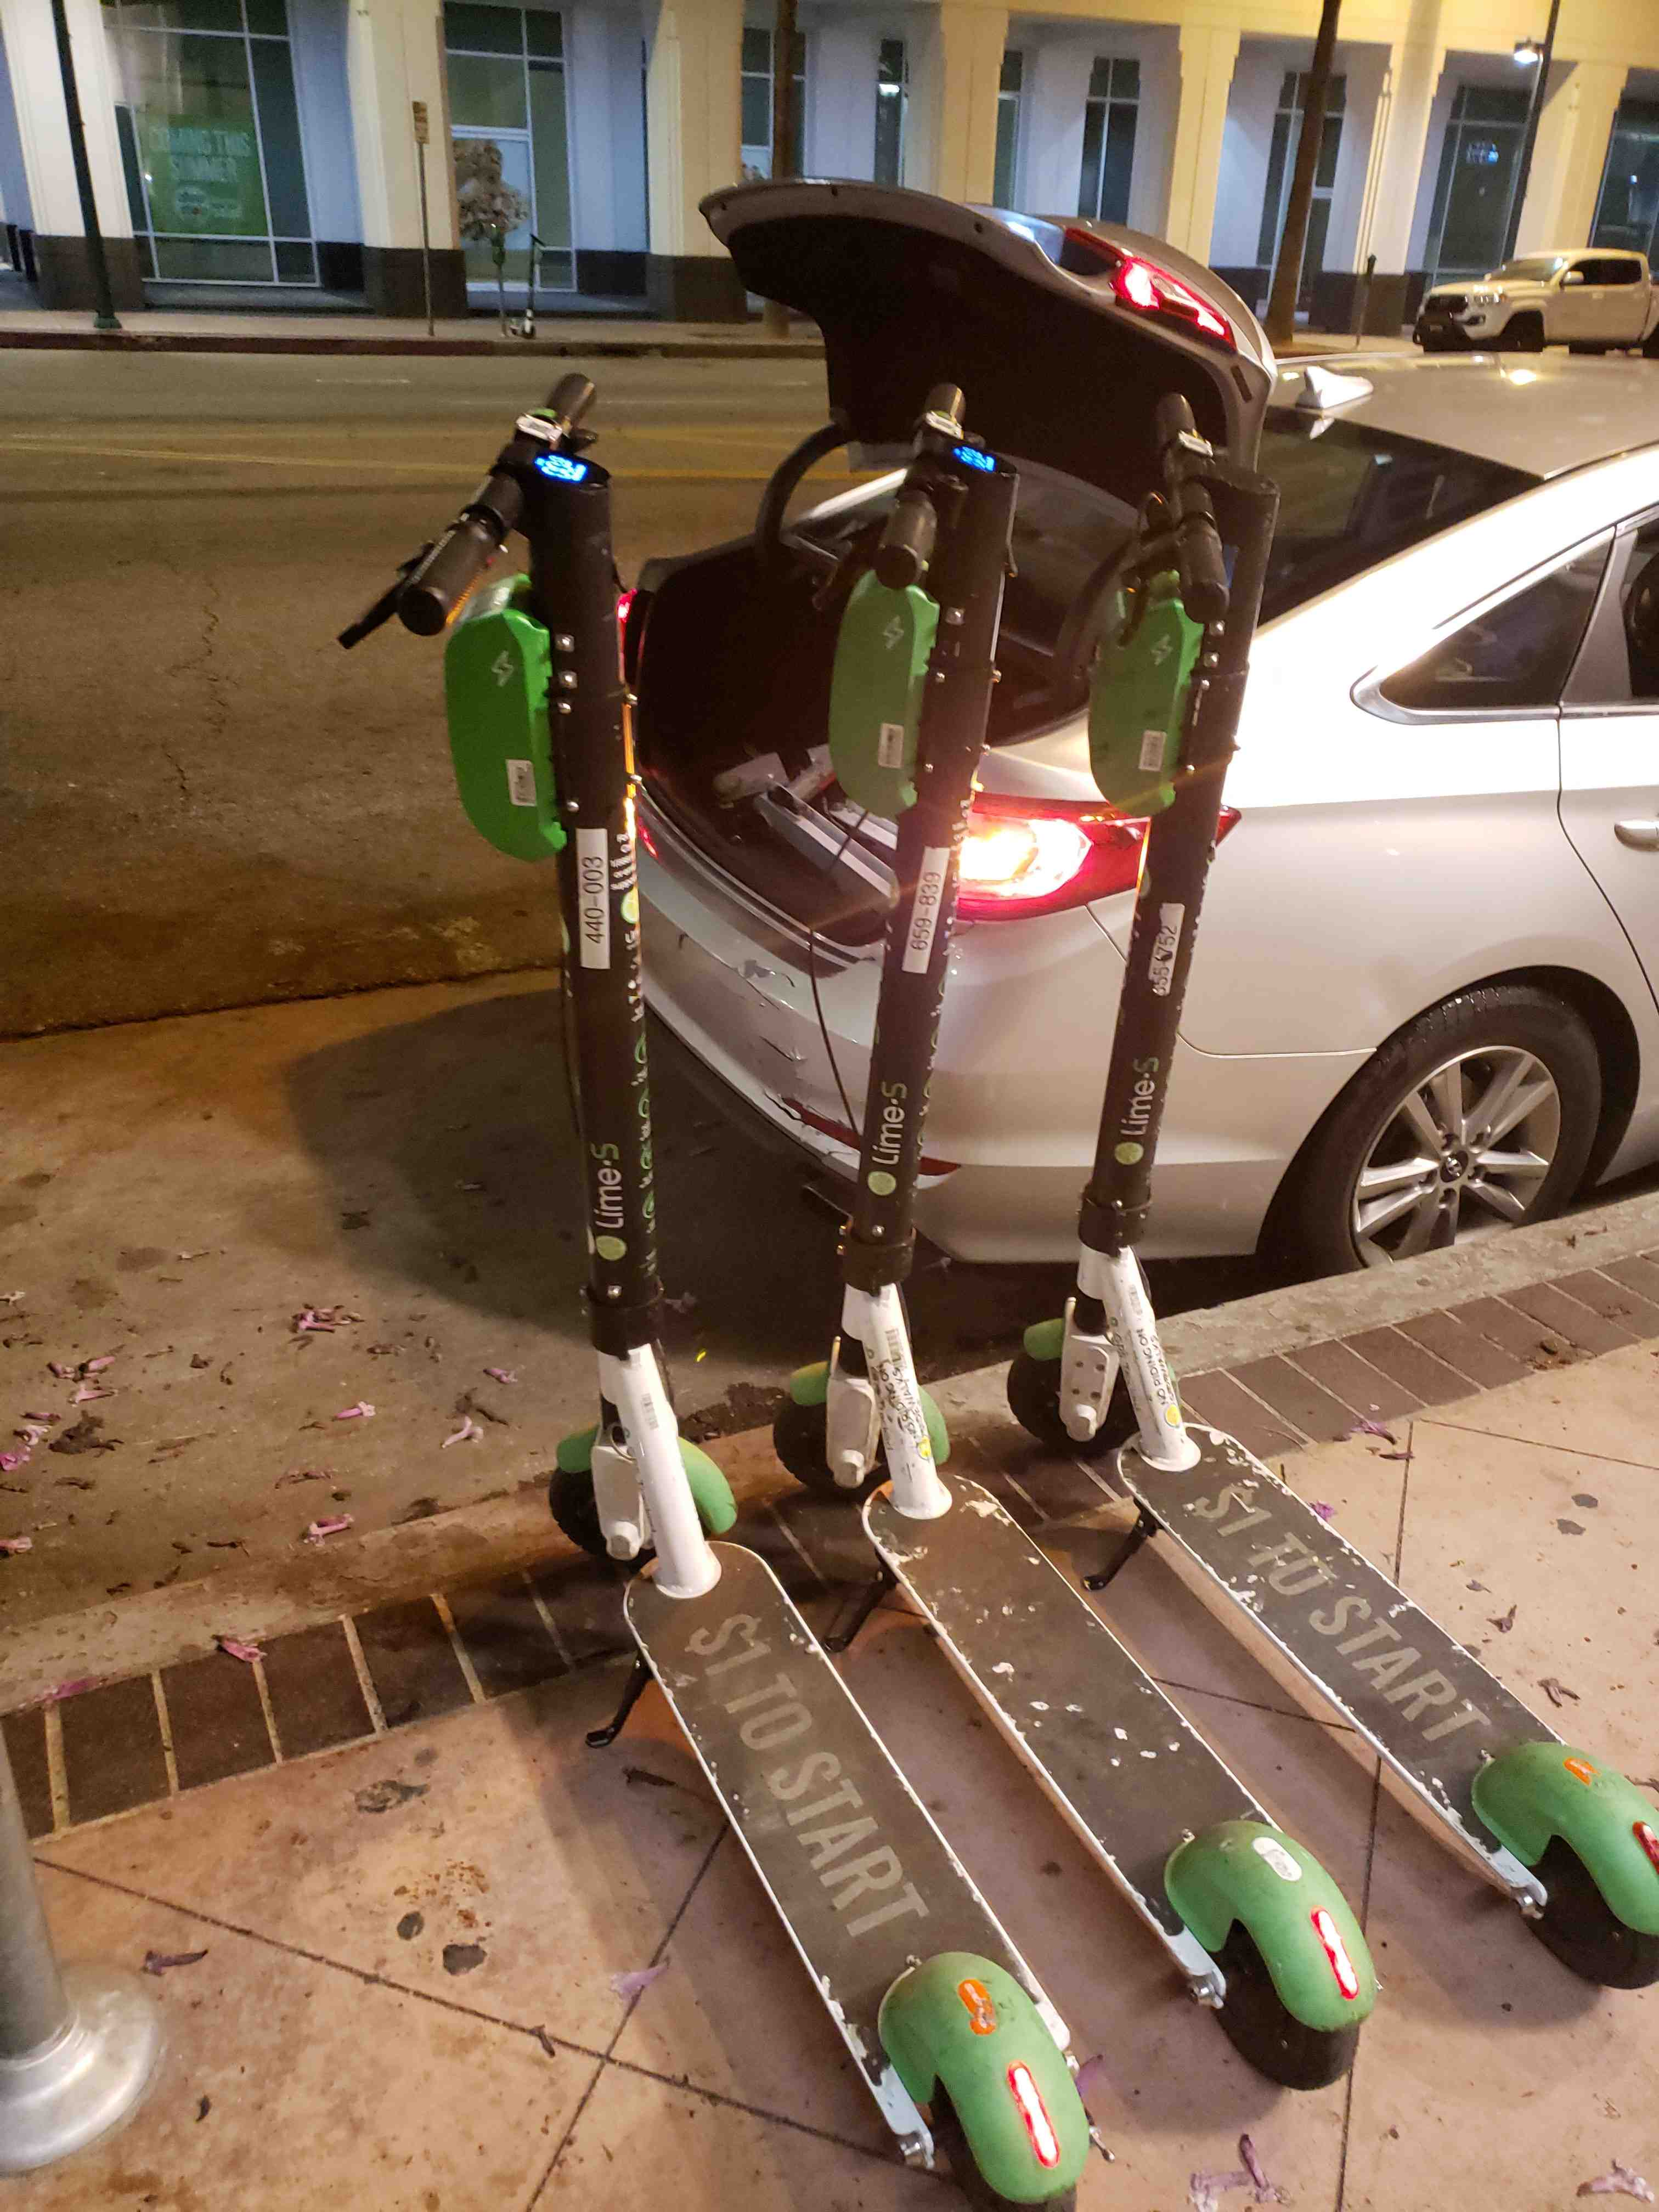too close: (469, 1355, 788, 1648), (714, 1308, 1030, 1585), (929, 1259, 1263, 1507)
